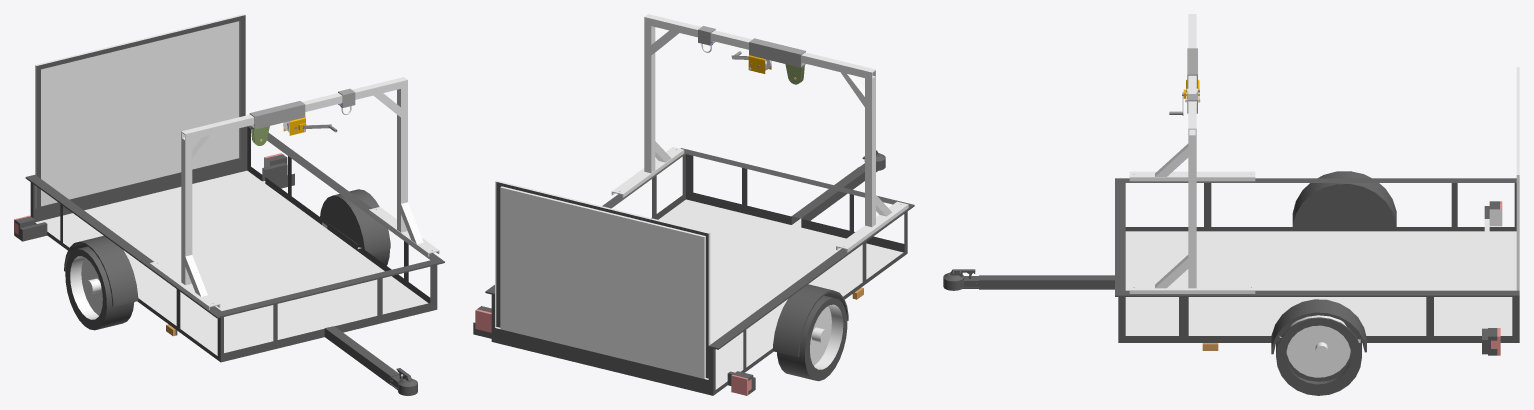
The picture shows the model from 3 angles, left to right: view 1: azimuth 30°, elevation 25°; view 2: azimuth 150°, elevation 25°; view 3: azimuth 270°, elevation 25°; orthographic projection. The views are drawn at different scales.
Parts seen in each view (by area): view 1: Node3, Node43, Node10, Node2; view 2: Node3, Node43, Node10; view 3: Node3, Node43, Node2.
Part boxes in pixels (x1,y1,x2,y2): Node3: [14, 14, 444, 385]; Node43: [149, 77, 439, 309]; Node10: [249, 101, 305, 129]; Node2: [389, 368, 417, 395]; Node3: [473, 148, 914, 395]; Node43: [611, 14, 908, 252]; Node10: [749, 38, 805, 67]; Node3: [979, 67, 1519, 395]; Node43: [1129, 14, 1255, 293]; Node2: [943, 269, 979, 290].
Size of the model in its own units: 80.5 by 67.38 by 137.
